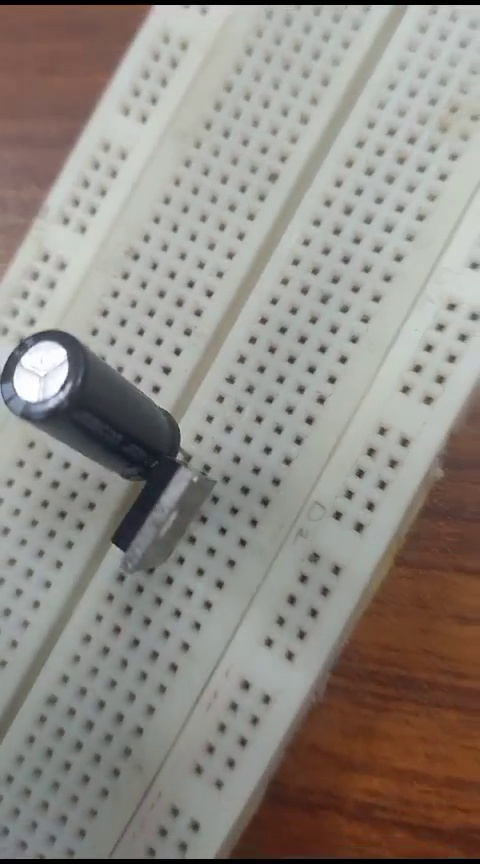capacitor: (3, 325, 186, 476)
voltage regulator: (112, 452, 208, 576)
